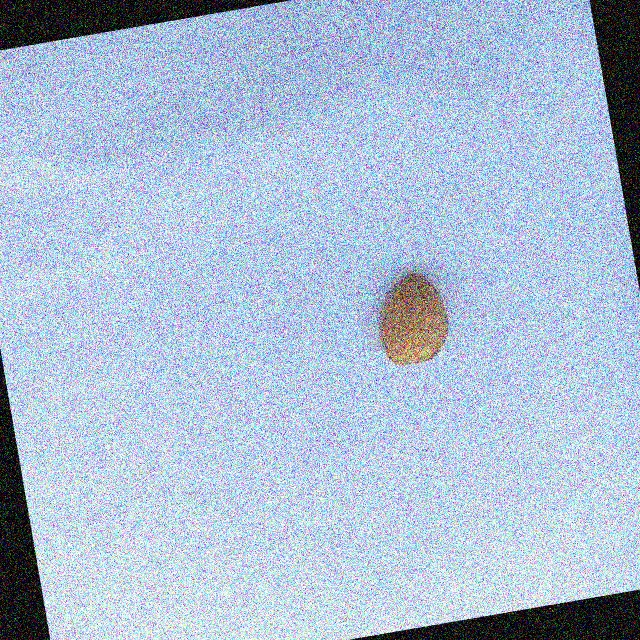grade2: (363, 265, 458, 374)
